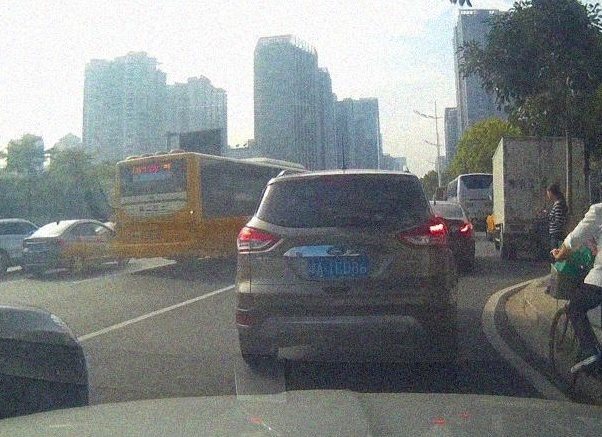L_light: (237, 226, 284, 254), (112, 219, 119, 237)
R_light: (397, 217, 449, 248), (187, 211, 195, 230)
T_light: (339, 175, 354, 181), (143, 189, 161, 193)
day-no: (111, 149, 200, 273)
day-right: (237, 165, 449, 365)
